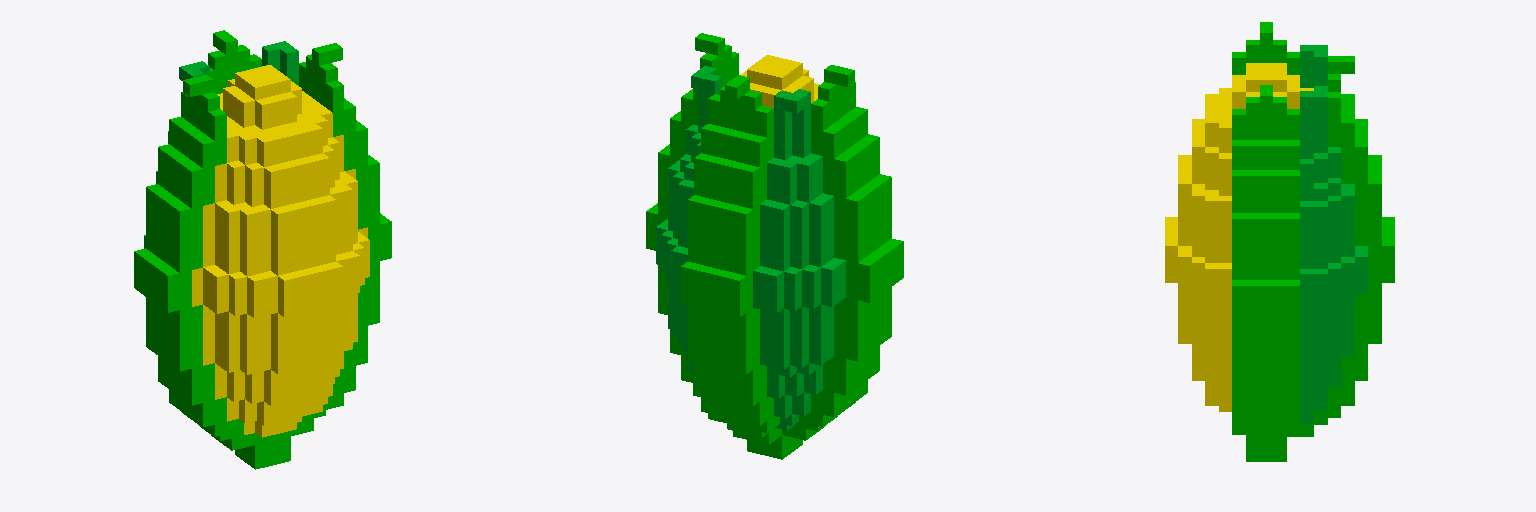
3 renders of one model, left to right at view 1: azimuth 30°, elevation 25°; view 2: azimuth 150°, elevation 25°; view 3: azimuth 270°, elevation 25°, orthographic.
Bounding box in the file's own units: 19 × 32 × 17.
Materials: 1 (1 with a texture image).